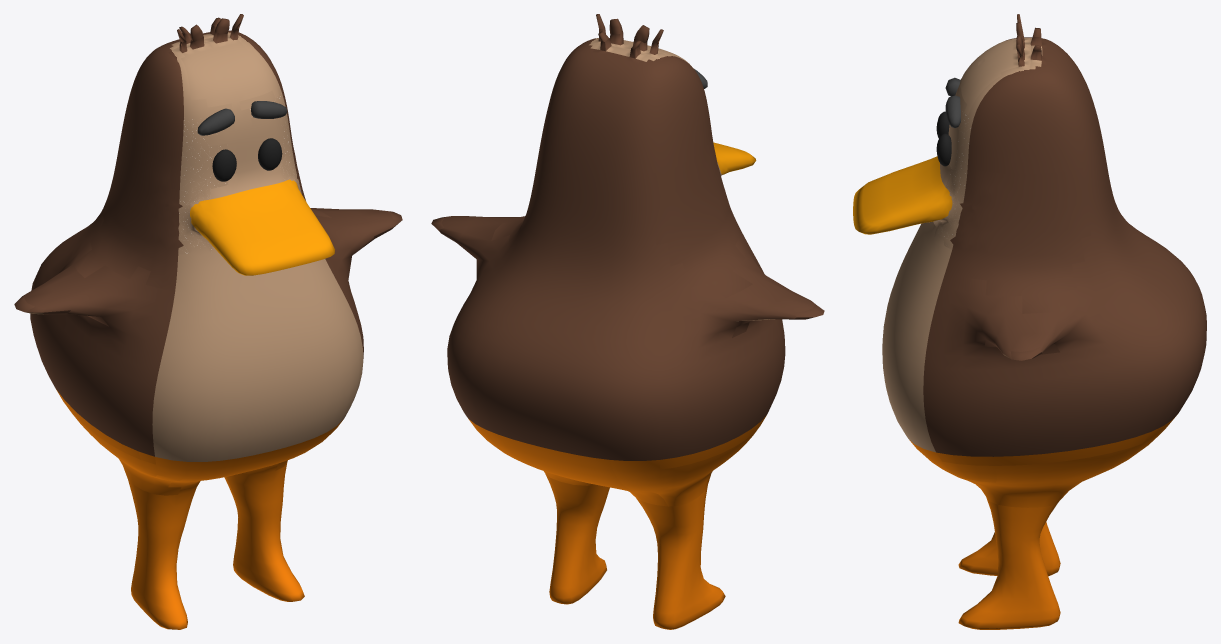
Rendered from ducky.obj.
3 views of the same model, side by side, from view 1: azimuth 30°, elevation 25°; view 2: azimuth 150°, elevation 25°; view 3: azimuth 270°, elevation 25° (orthographic). The views are drawn at different scales.
Parts seen in each view (by area): view 1: ducky_Cube.003; view 2: ducky_Cube.003; view 3: ducky_Cube.003.
Boxes of the visible parts, x1,y1,x2,y2 form: ducky_Cube.003: (14, 14, 402, 629); ducky_Cube.003: (431, 14, 824, 629); ducky_Cube.003: (853, 14, 1206, 629).
Bounding box in the file's own units: 1.31 × 1.87 × 1.05.
1 material, 1 textured.
